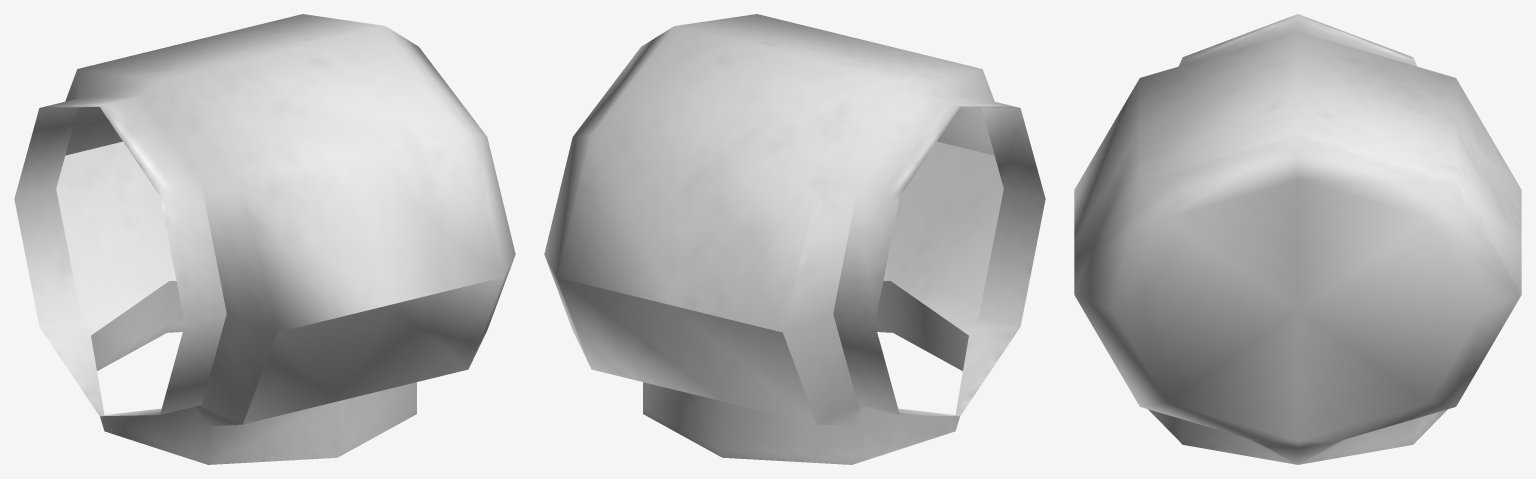
File: little_arm_link_3.dae
The picture shows the model from 3 angles, left to right: view 1: azimuth 30°, elevation 25°; view 2: azimuth 150°, elevation 25°; view 3: azimuth 270°, elevation 25°; orthographic projection. The views are drawn at different scales.
Visible parts, largest first — view 1: Little_Arm_3; view 2: Little_Arm_3; view 3: Little_Arm_3.
Part boxes in pixels (x1,y1,x2,y2): Little_Arm_3: (14, 14, 515, 464); Little_Arm_3: (544, 14, 1045, 464); Little_Arm_3: (1074, 14, 1521, 464).
Size of the model in its own units: 0.2045 by 0.2598 by 0.2061.
1 material, 1 textured.
